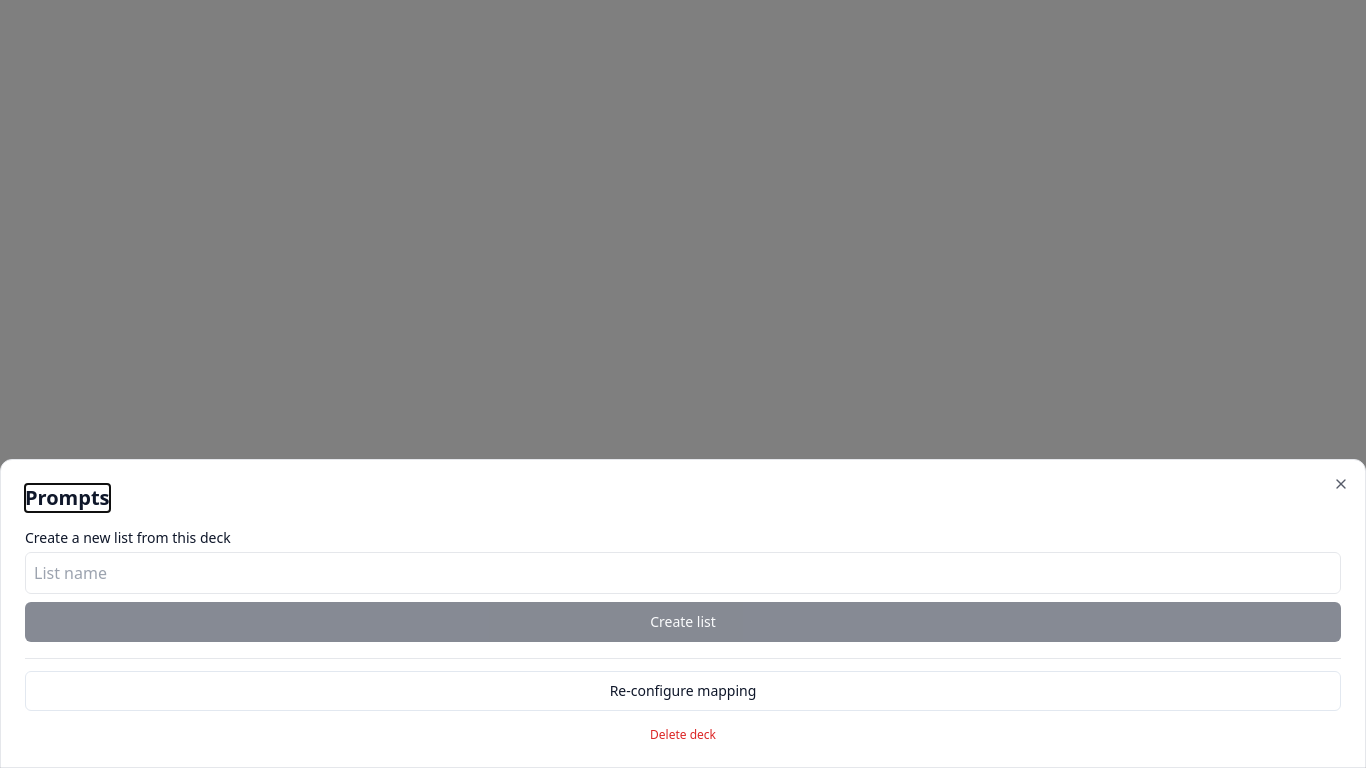
Test: DeckDetailSheet › renames the deck via the inline heading
This screenshot has width=1366, height=768.
Click the button "Prompts": x=67, y=498 [25, 484, 110, 512]
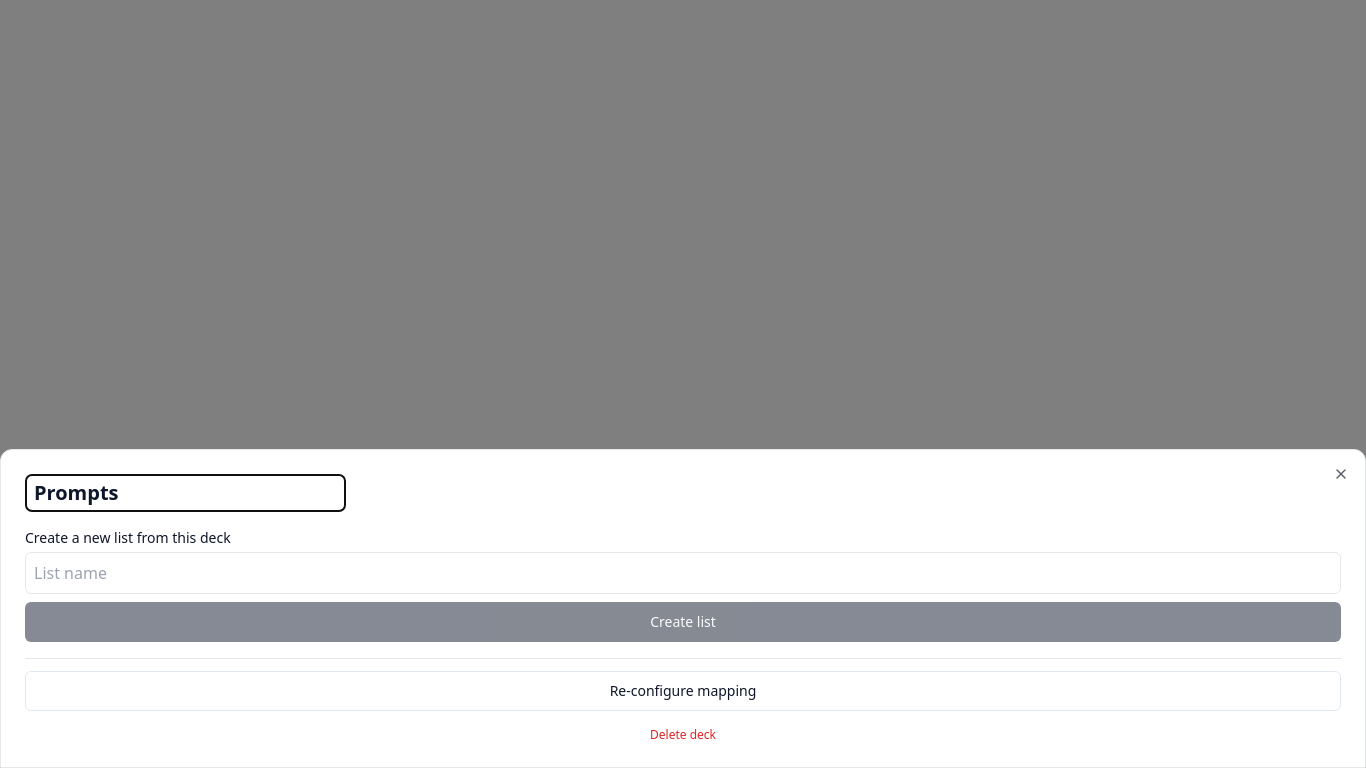
Replace the text in the 1st field with "Renamed Deck": x=186, y=493 [25, 474, 346, 512]
Then press Enter
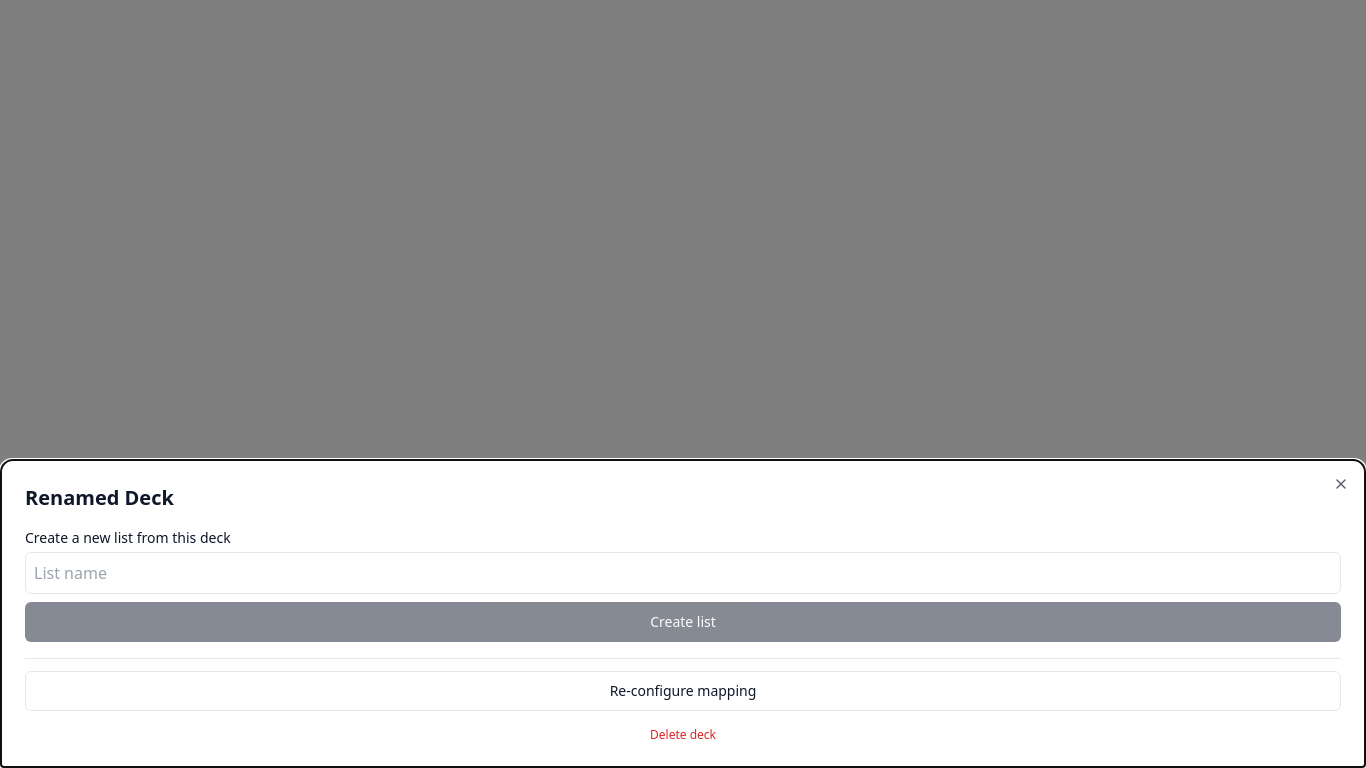
Now the button "Renamed Deck" reads "Renamed Deck", box [25, 484, 174, 512]
